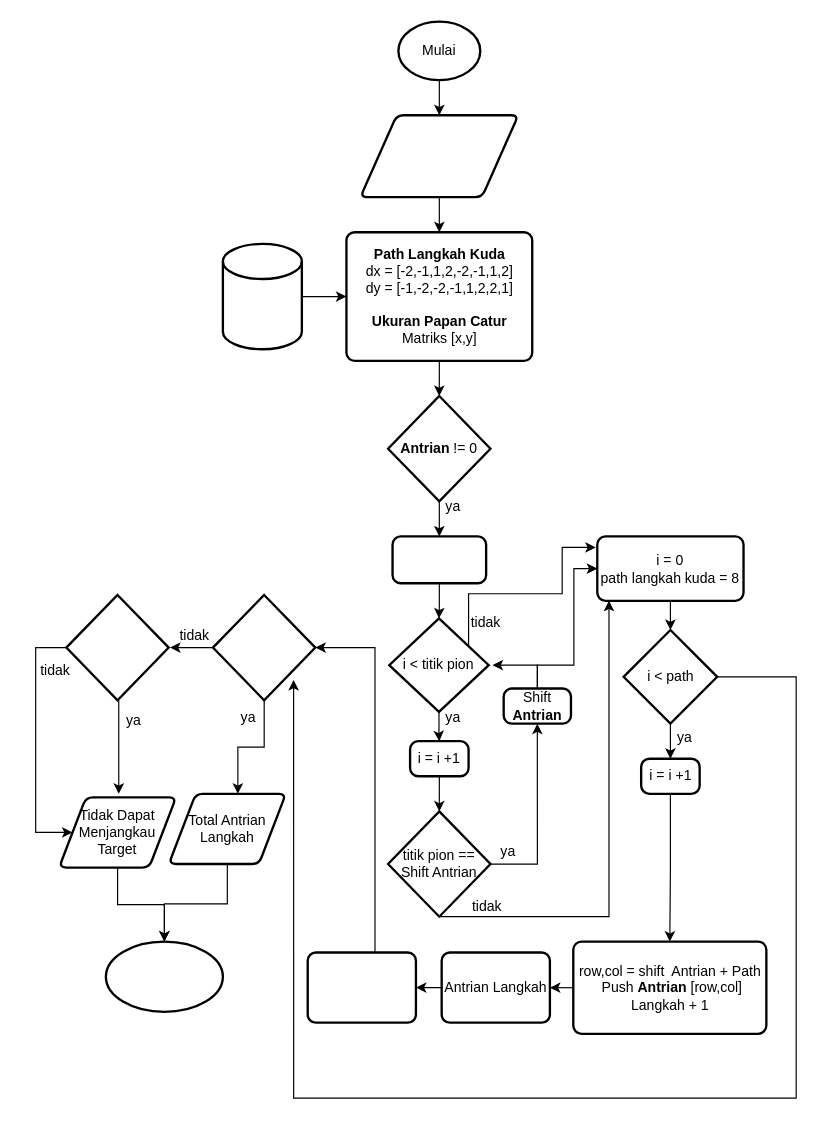
Image size: 826x1128. Some labels were removed from this diagram. Each missing label, with the centre of its shape:
"i = 0 titik pion = 8" belongs at point (439, 559).
"Masukkan titik kuda [x,y] titik raja [x.y] titik pion [x,y]" belongs at point (439, 155).
"Matriks x = 8 y = 8" belongs at point (261, 296).
"Push Antrian titik kuda[x,y]" belongs at point (361, 987).
"Selesai" belongs at point (163, 976).
"Shift Antrian == null" belongs at point (117, 647).
"Shift Antrian == titikraja" belongs at point (263, 647).
